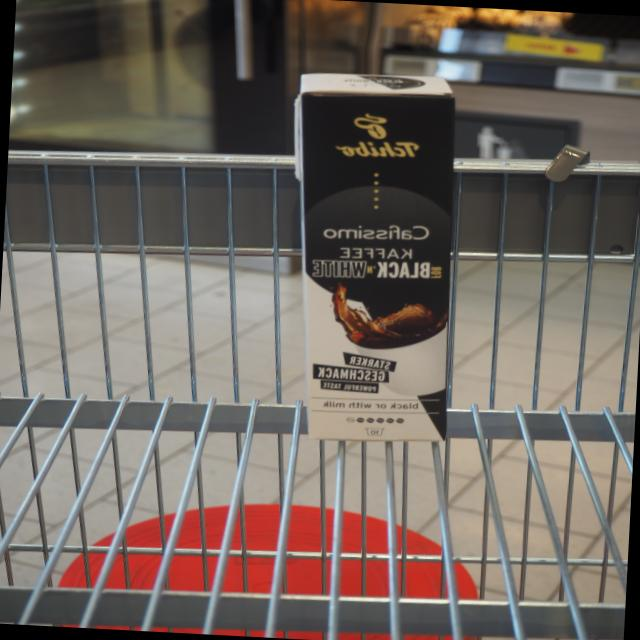Simo Kaffee BW: (290, 69, 460, 451)
